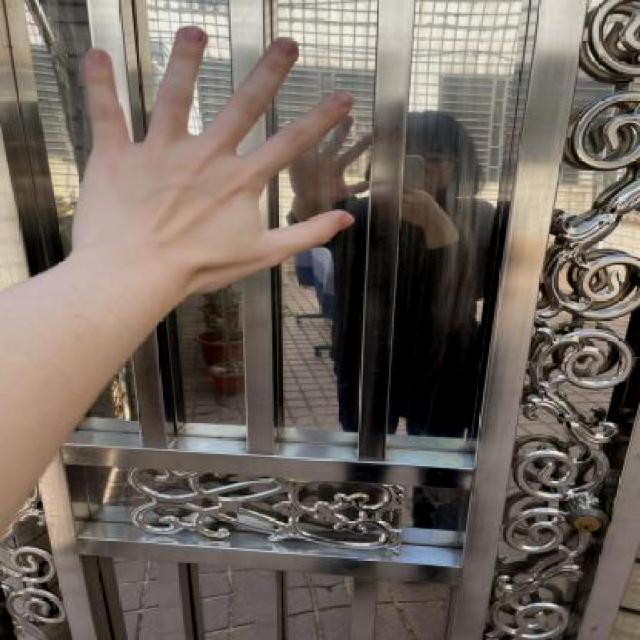no_glove: (33, 4, 378, 301)
